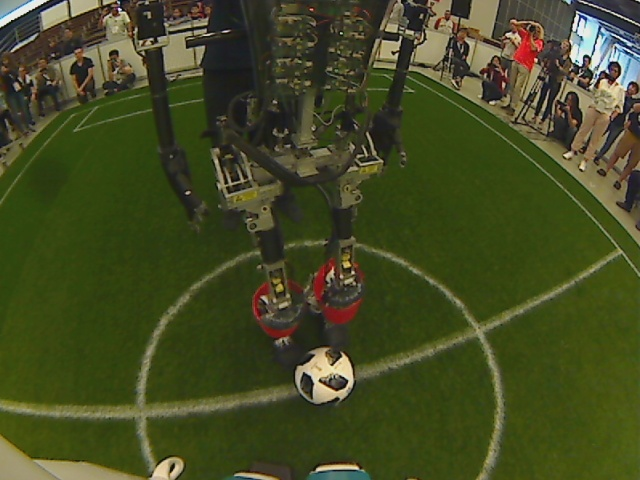ball: (291, 344, 359, 409)
